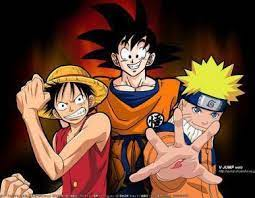Luffy: (46, 72, 98, 124)
Naruto: (177, 66, 231, 134)
Songoku: (109, 23, 159, 76)
